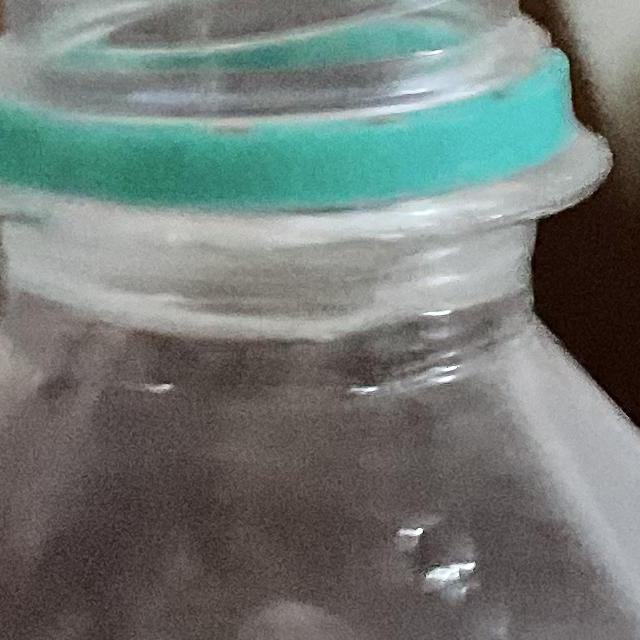open-cap: (0, 0, 594, 199)
